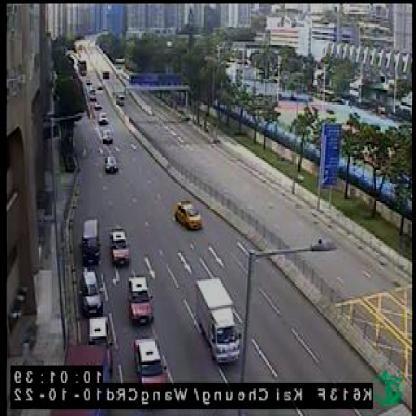Car: (133, 336, 169, 382), (126, 272, 154, 327), (79, 269, 102, 315), (108, 225, 129, 265), (174, 200, 201, 230), (89, 318, 110, 348), (103, 152, 117, 173), (101, 129, 112, 144), (98, 114, 106, 124)
Truck: (195, 276, 241, 364), (80, 216, 100, 264)
